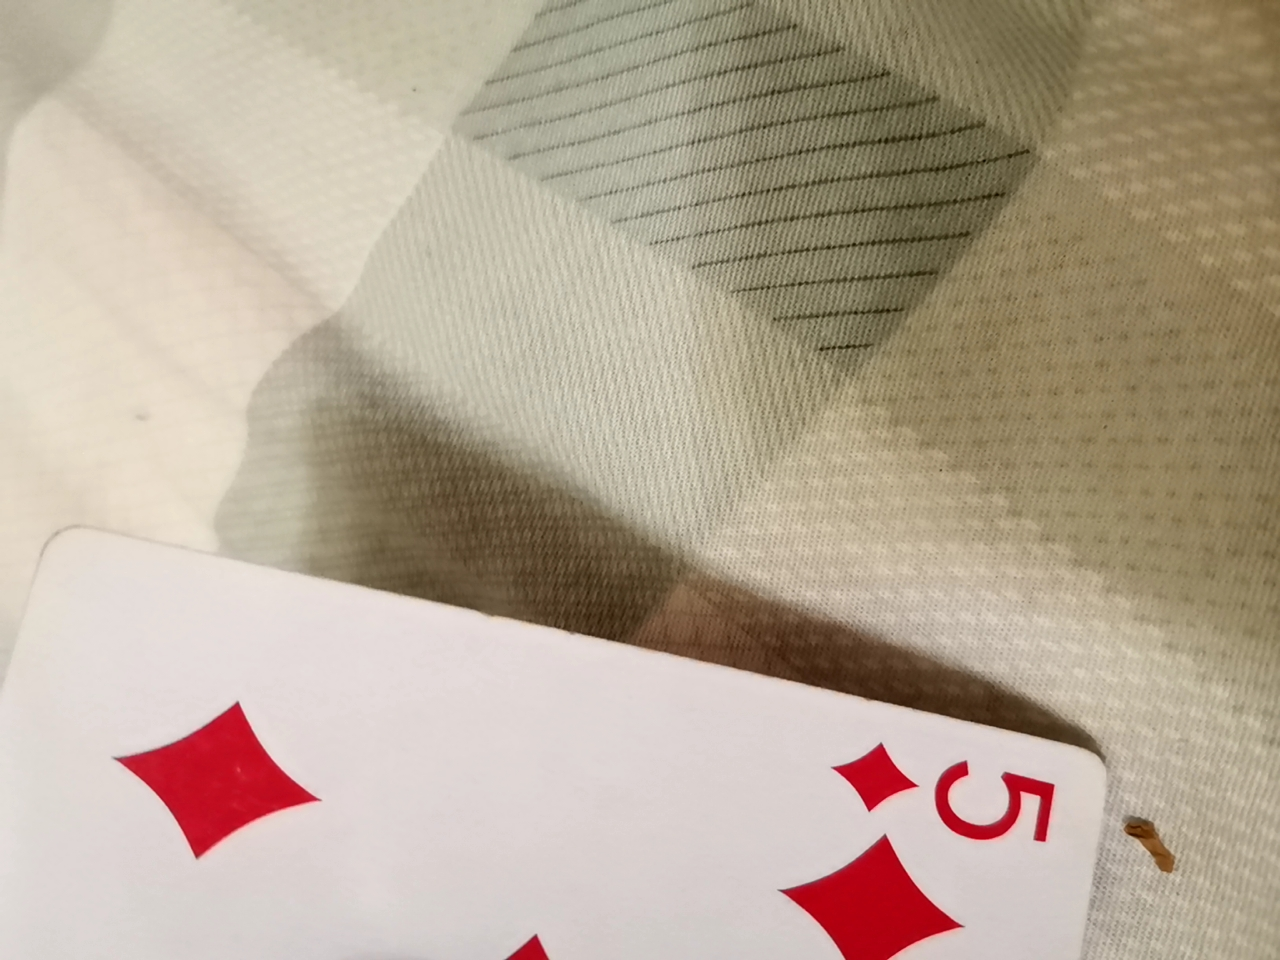fk 5: (4, 530, 1125, 958)
